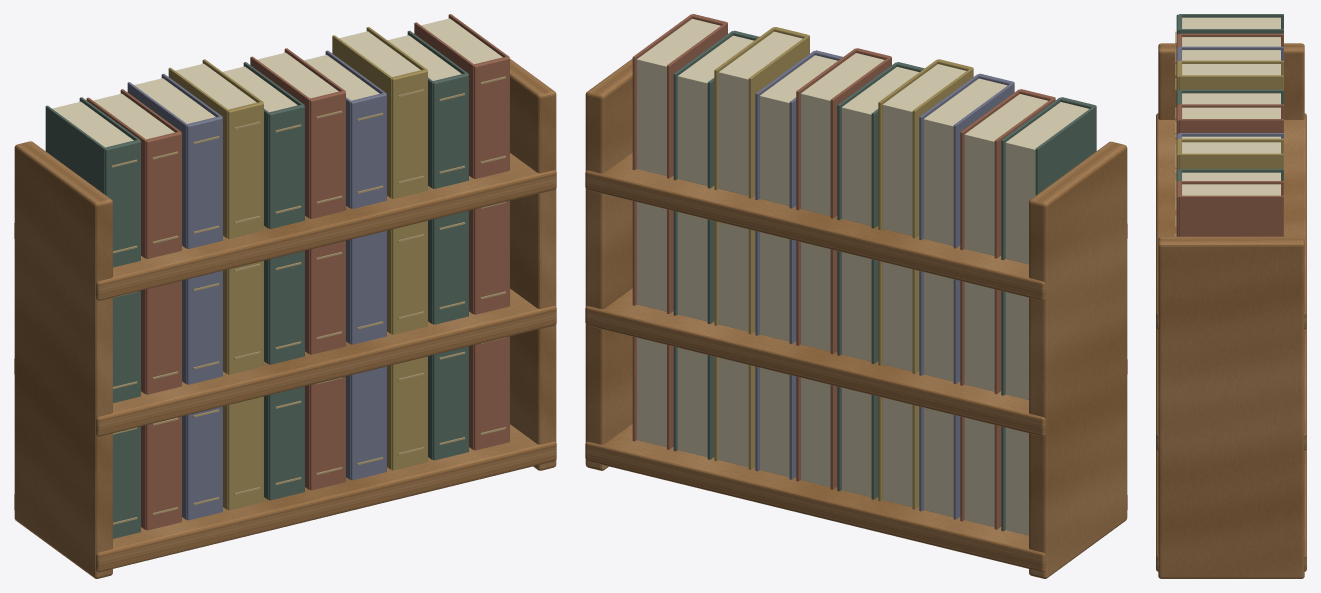
The model's file is BookDisplay.glb.
3 views of the same model, side by side, from view 1: azimuth 30°, elevation 25°; view 2: azimuth 150°, elevation 25°; view 3: azimuth 270°, elevation 25° (orthographic). The views are drawn at different scales.
Visible parts, largest first — view 1: BookDisplay_NX_Oak, BookDisplay_NX_Cover1, BookDisplay_NX_Cover0, BookDisplay_NX_Cover3, BookDisplay_NX_Cover2, BookDisplay_NX_Paper, BookDisplay_NX_Brass; view 2: BookDisplay_NX_Paper, BookDisplay_NX_Oak, BookDisplay_NX_Cover1, BookDisplay_NX_Cover0, BookDisplay_NX_Cover3, BookDisplay_NX_Cover2; view 3: BookDisplay_NX_Oak, BookDisplay_NX_Paper, BookDisplay_NX_Cover1, BookDisplay_NX_Cover3, BookDisplay_NX_Cover0, BookDisplay_NX_Cover2, BookDisplay_NX_Brass.
Boxes of the visible parts, x1=… form: BookDisplay_NX_Oak: x1=14, y1=59, x2=556, y2=578; BookDisplay_NX_Cover1: x1=86, y1=14, x2=509, y2=530; BookDisplay_NX_Cover0: x1=45, y1=30, x2=468, y2=538; BookDisplay_NX_Cover3: x1=168, y1=27, x2=427, y2=510; BookDisplay_NX_Cover2: x1=127, y1=50, x2=386, y2=520; BookDisplay_NX_Paper: x1=52, y1=18, x2=502, y2=147; BookDisplay_NX_Brass: x1=111, y1=76, x2=506, y2=524; BookDisplay_NX_Paper: x1=637, y1=18, x2=1088, y2=535; BookDisplay_NX_Oak: x1=585, y1=58, x2=1127, y2=578; BookDisplay_NX_Cover1: x1=632, y1=14, x2=1055, y2=529; BookDisplay_NX_Cover0: x1=673, y1=30, x2=1096, y2=531; BookDisplay_NX_Cover3: x1=714, y1=27, x2=973, y2=509; BookDisplay_NX_Cover2: x1=755, y1=50, x2=1014, y2=519; BookDisplay_NX_Oak: x1=1156, y1=43, x2=1306, y2=578; BookDisplay_NX_Paper: x1=1182, y1=17, x2=1280, y2=195; BookDisplay_NX_Cover1: x1=1176, y1=33, x2=1283, y2=236; BookDisplay_NX_Cover3: x1=1176, y1=60, x2=1283, y2=169; BookDisplay_NX_Cover0: x1=1176, y1=14, x2=1283, y2=181; BookDisplay_NX_Cover2: x1=1176, y1=46, x2=1283, y2=139; BookDisplay_NX_Brass: x1=1175, y1=31, x2=1176, y2=236.
Bounding box in the file's own units: 1.1 × 0.9738 × 0.35.
Materials: 7 (1 with a texture image).
